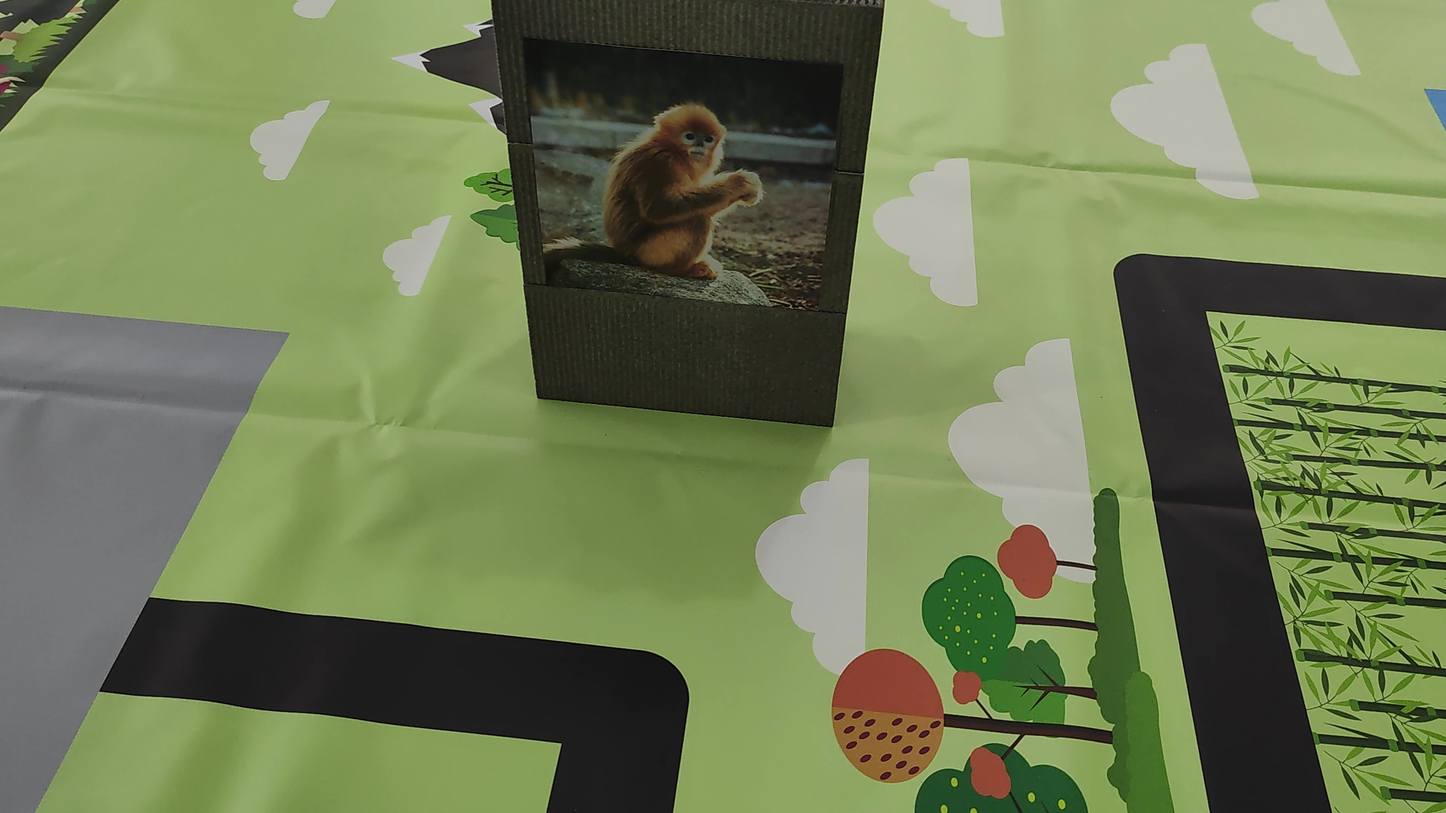monkey: (573, 82, 790, 306)
